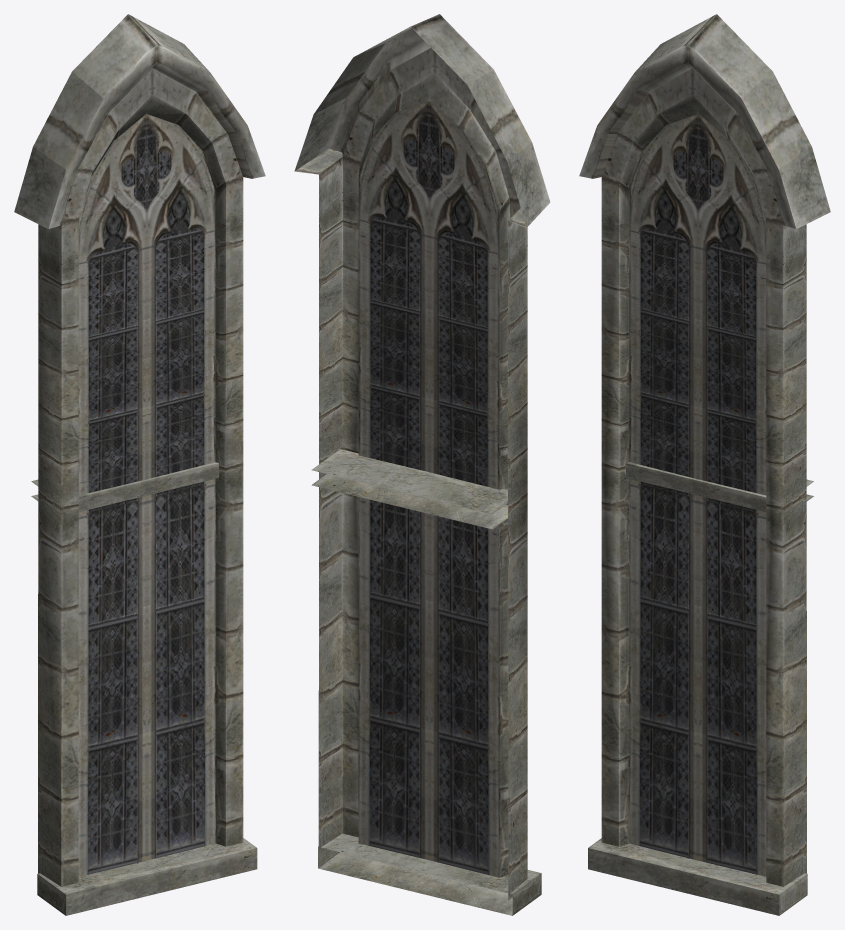
File: bg_lut_lucastle_churchwindow03_sm_ksh.FBX
3 renders of one model, left to right at view 1: azimuth 30°, elevation 25°; view 2: azimuth 150°, elevation 25°; view 3: azimuth 330°, elevation 25°, orthographic.
Visible parts, largest first — view 1: bg_lut_lucastle_churchwindow03_sm_ksh; view 2: bg_lut_lucastle_churchwindow03_sm_ksh; view 3: bg_lut_lucastle_churchwindow03_sm_ksh.
Part boxes in pixels (x1,y1,x2,y2): bg_lut_lucastle_churchwindow03_sm_ksh: (14,14,265,915); bg_lut_lucastle_churchwindow03_sm_ksh: (294,14,550,915); bg_lut_lucastle_churchwindow03_sm_ksh: (579,14,830,915).
Bounding box in the file's own units: 180 × 645 × 56.89.
